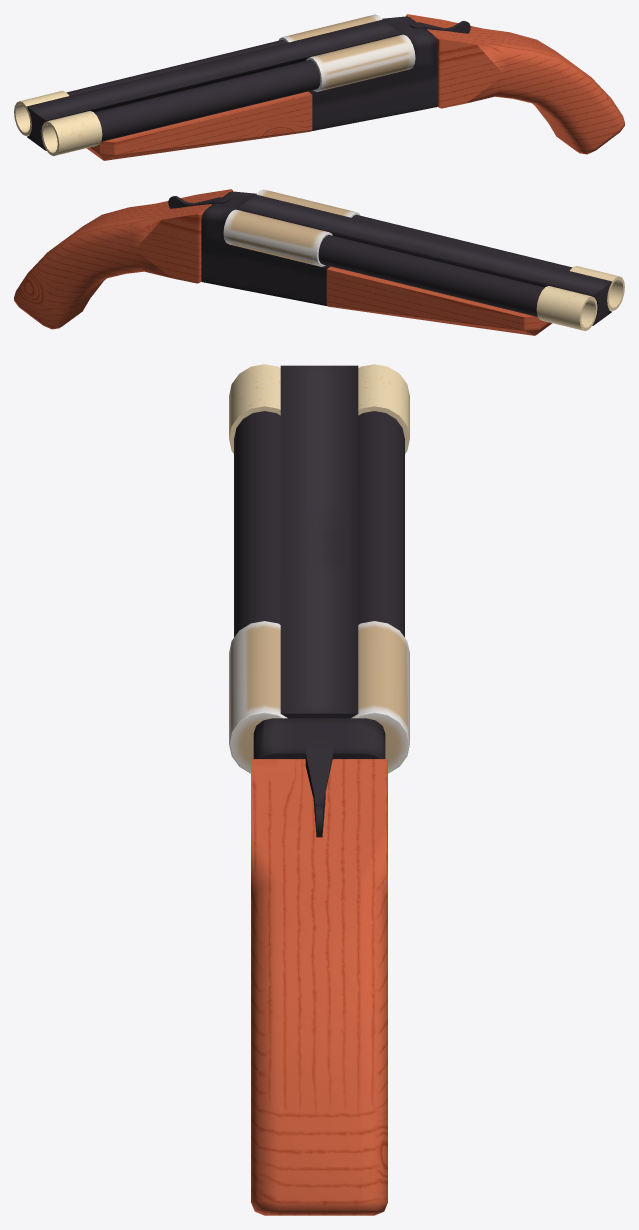
File: SESAMI.fbx
The picture shows the model from 3 angles, top to bottom: view 1: azimuth 30°, elevation 25°; view 2: azimuth 150°, elevation 25°; view 3: azimuth 270°, elevation 25°; orthographic projection. The views are drawn at different scales.
Parts seen in each view (by area): view 1: pCube1, polySurface2 (×2), pCube4, pCube3, pCube2, polySurface1 (×2), pCube5; view 2: pCube1, polySurface2 (×2), pCube4, pCube3, pCube2, polySurface1 (×2), pCube5; view 3: pCube1, polySurface2 (×2), pCube4, polySurface1 (×2), pCube2, pCube5.
Boxes of the visible parts, x1,y1,x2,y2 form: pCube1: (406,14,624,154); polySurface2 (×2): (66,14,415,141); pCube4: (26,19,402,150); pCube3: (86,91,312,160); pCube2: (308,16,437,131); polySurface1 (×2): (14,90,102,155); pCube5: (409,21,470,33); pCube1: (14,189,232,329); polySurface2 (×2): (223,189,572,316); pCube4: (236,194,612,325); pCube3: (326,266,552,335); pCube2: (201,191,330,306); polySurface1 (×2): (536,265,624,330); pCube5: (168,196,229,208); pCube1: (251,759,387,1215); polySurface2 (×2): (229,411,409,773); pCube4: (280,365,358,718); polySurface1 (×2): (229,364,409,453); pCube2: (253,718,385,758); pCube5: (305,737,333,837).
Size of the model in its own units: 48.57 by 13.16 by 6.6.
1 material, 1 textured.
